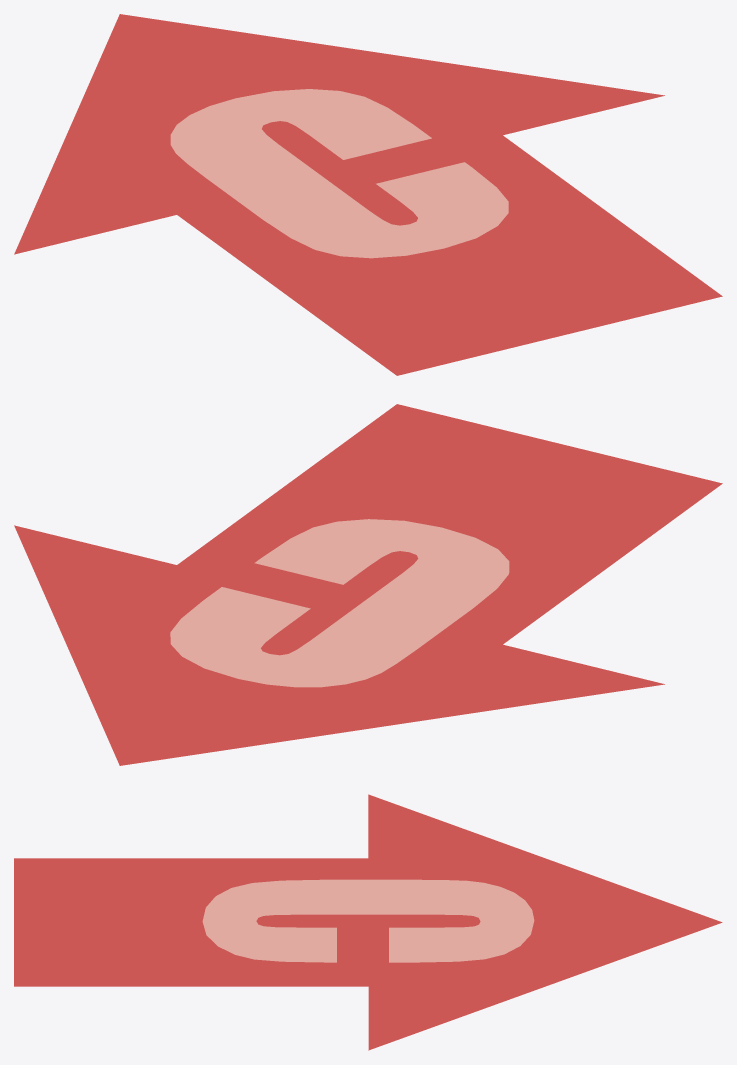
Rendered from DE_Guide_C_01.fbx.
3 views of the same model, one above another, from view 1: azimuth 30°, elevation 25°; view 2: azimuth 150°, elevation 25°; view 3: azimuth 270°, elevation 25° (orthographic). The views are drawn at different scales.
Visible parts, largest first — view 1: DE_Guide_C_01; view 2: DE_Guide_C_01; view 3: DE_Guide_C_01.
Boxes of the visible parts, bbox=[...] form: DE_Guide_C_01: bbox=[14, 14, 722, 375]; DE_Guide_C_01: bbox=[14, 404, 722, 765]; DE_Guide_C_01: bbox=[14, 794, 722, 1050].
Size of the model in its own units: 102 by 0.2523 by 120.
